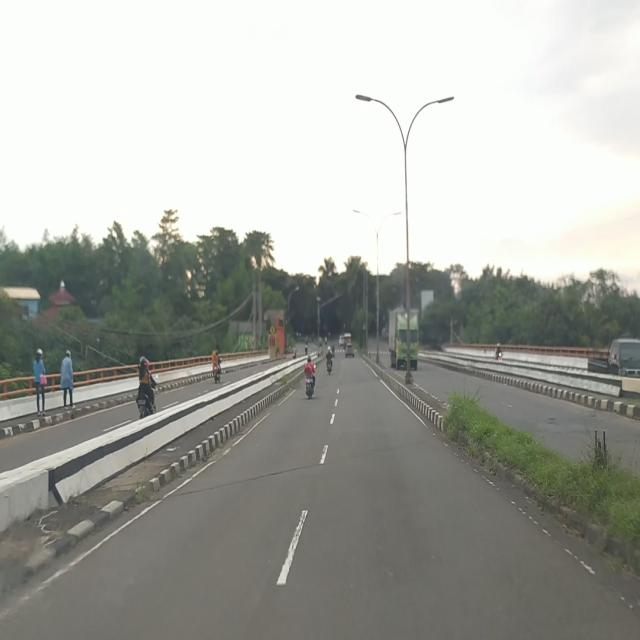Sewer Cover: (164, 452, 378, 498)
